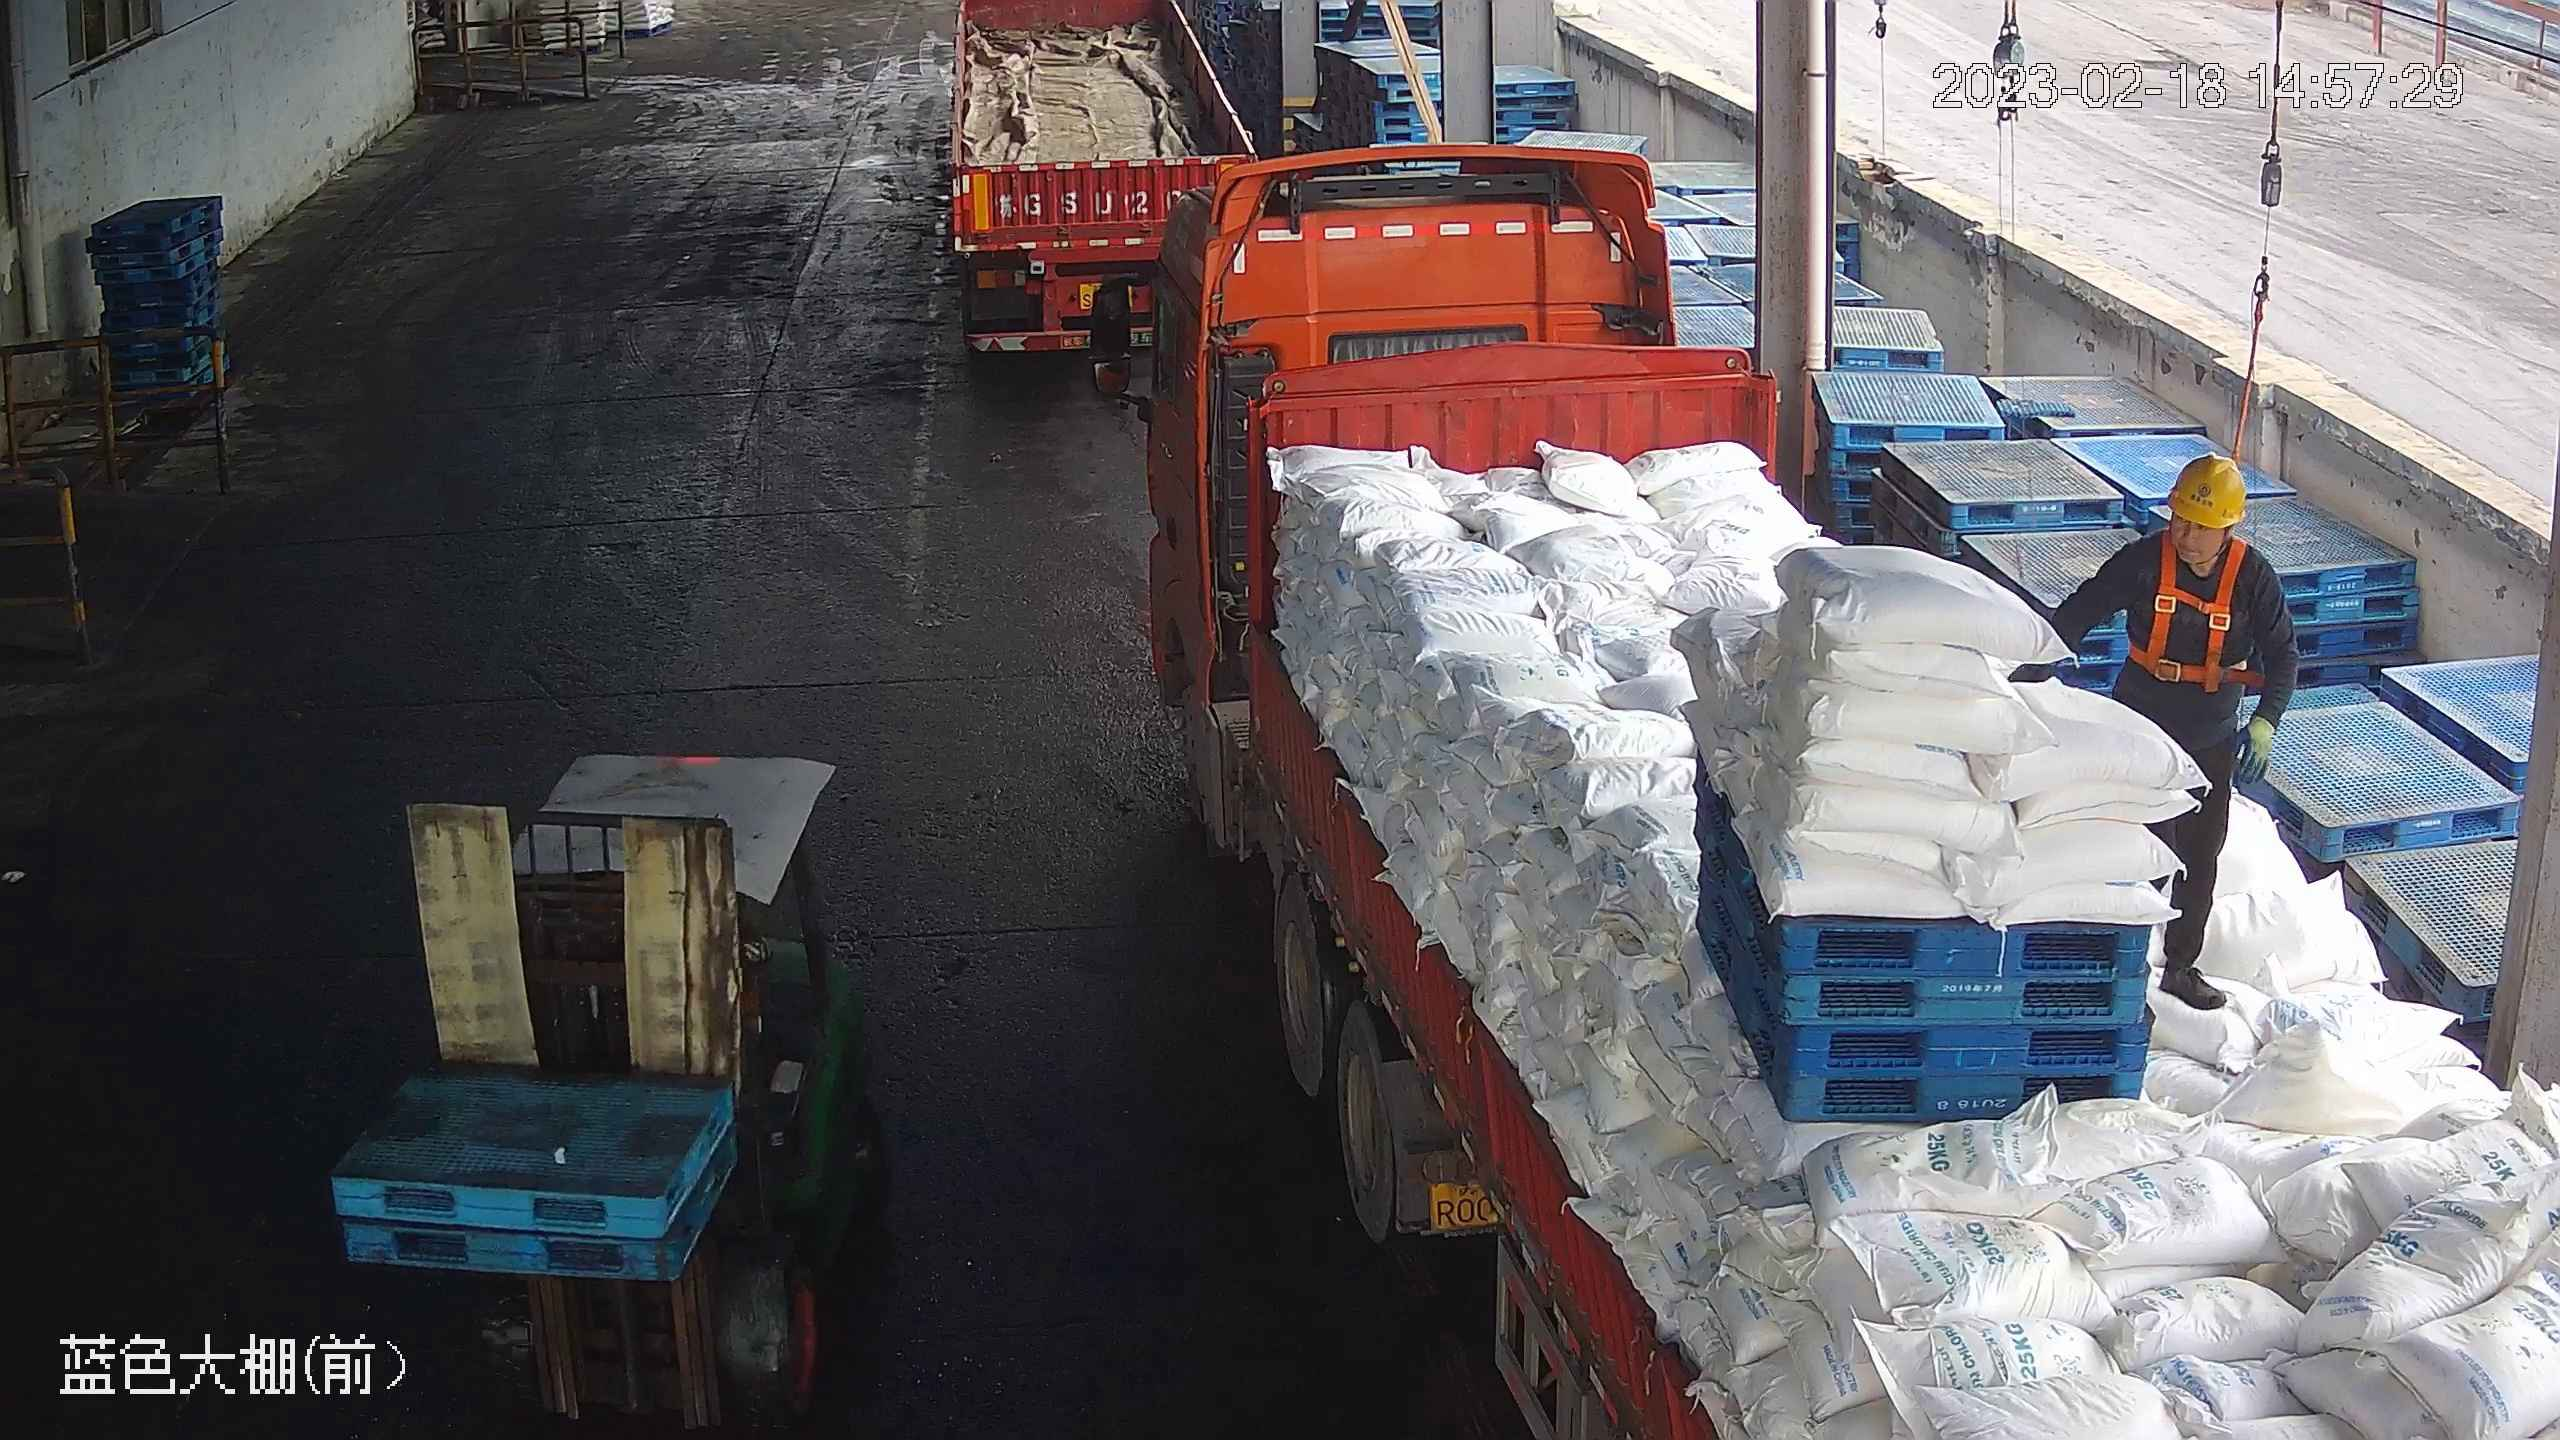belt: (2124, 535, 2256, 687)
head: (2110, 452, 2281, 614)
helmet: (2160, 449, 2259, 529)
people: (2018, 449, 2293, 1022)
truck: (1071, 153, 2557, 1440), (914, 1, 1268, 387)
